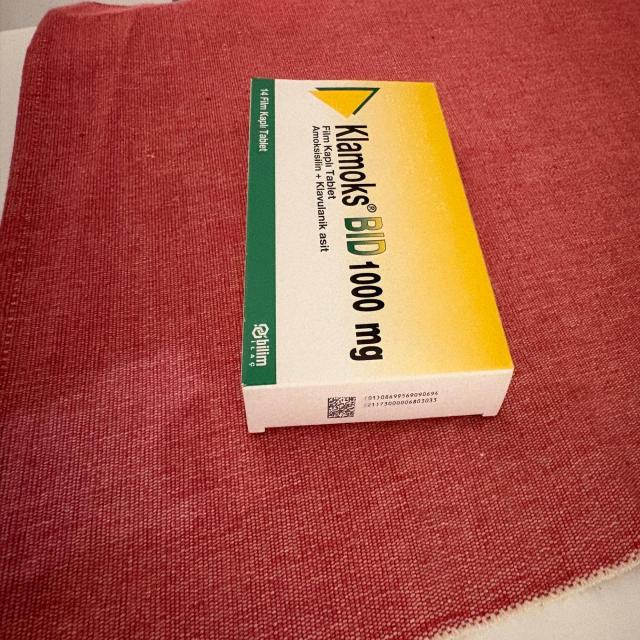good_package: (240, 74, 514, 435)
